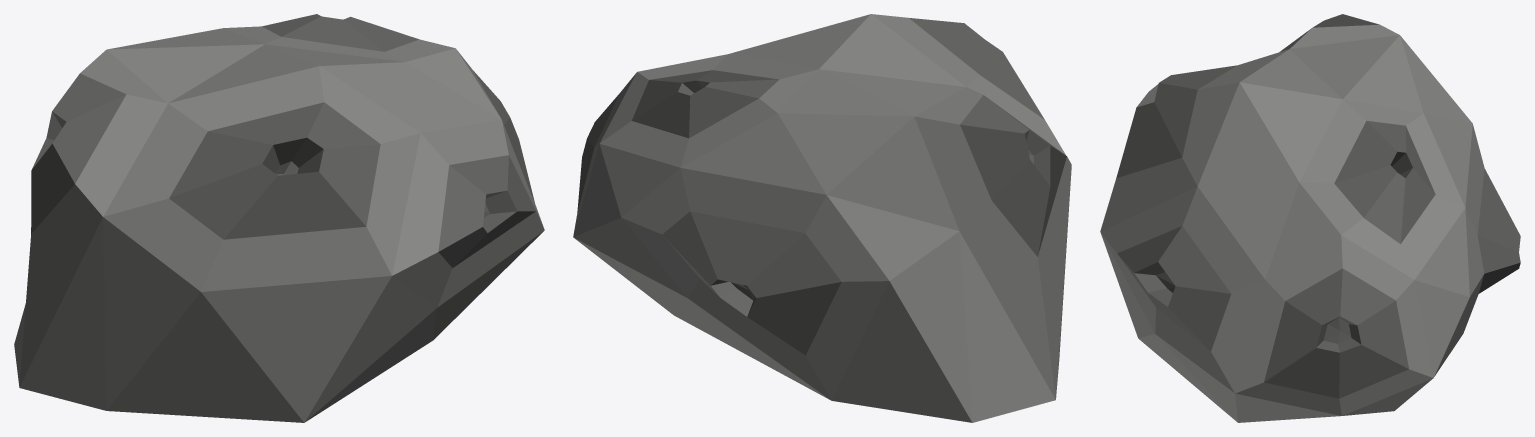
Rendered from DD_Rock07.fbx.
3 renders of one model, left to right at view 1: azimuth 30°, elevation 25°; view 2: azimuth 150°, elevation 25°; view 3: azimuth 270°, elevation 25°, orthographic. The views are drawn at different scales.
Visible parts, largest first — view 1: DD_Rock07; view 2: DD_Rock07; view 3: DD_Rock07.
Part boxes in pixels (<box>): DD_Rock07: <box>14,14,544,422</box>; DD_Rock07: <box>573,14,1071,422</box>; DD_Rock07: <box>1100,14,1520,422</box>.
Size of the model in its own units: 126 by 74.5 by 98.61.
1 material, 1 textured.
